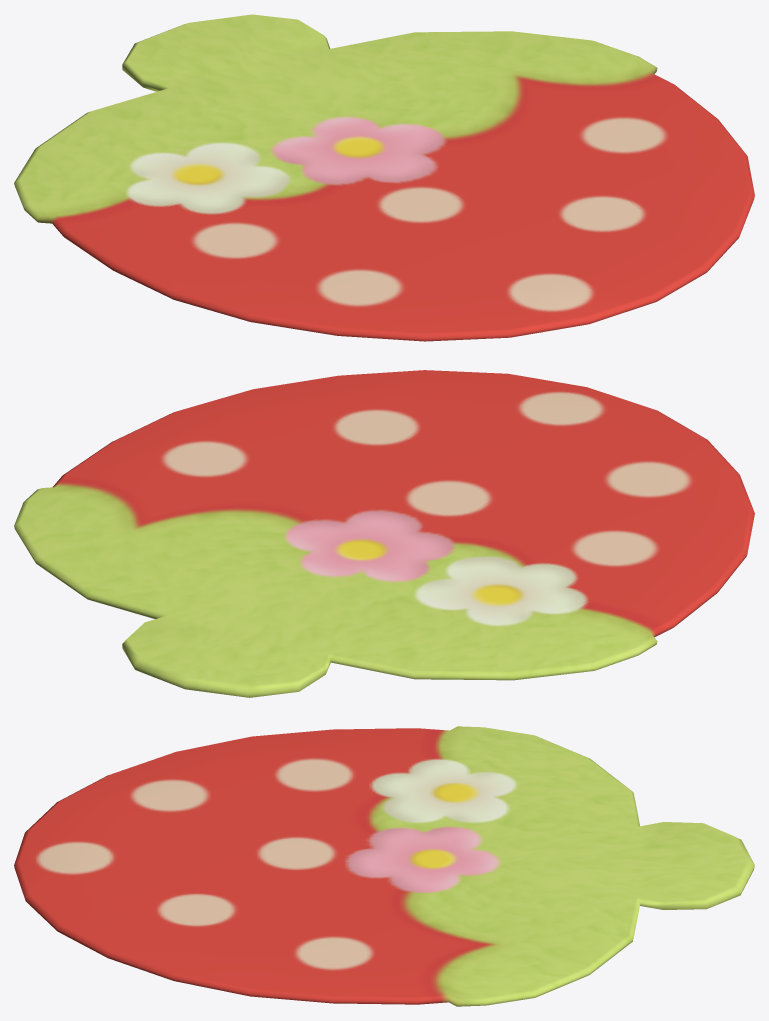
The model's file is Homestead_cm_7.fbx.
3 views of the same model, one above another, from view 1: azimuth 30°, elevation 25°; view 2: azimuth 150°, elevation 25°; view 3: azimuth 270°, elevation 25° (orthographic). The views are drawn at different scales.
Visible parts, largest first — view 1: Homestead_cm_7; view 2: Homestead_cm_7; view 3: Homestead_cm_7.
Part boxes in pixels (x1,y1,x2,y2): Homestead_cm_7: (14,14,754,341); Homestead_cm_7: (14,370,754,697); Homestead_cm_7: (14,726,754,1006).
Size of the model in its own units: 307 by 5.28 by 347.
